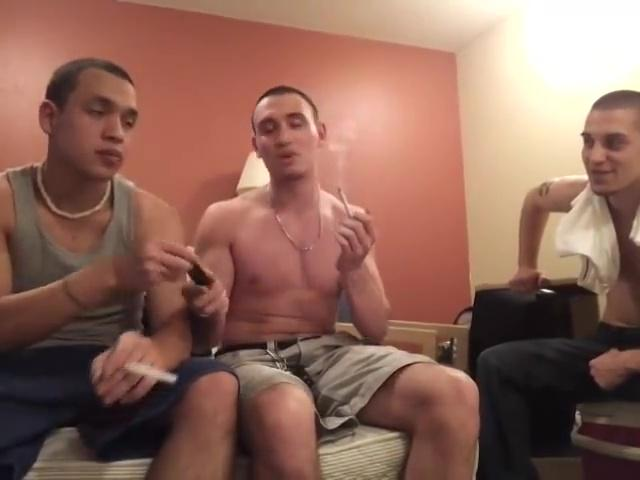cigarette: (121, 361, 181, 388), (338, 185, 354, 221)
